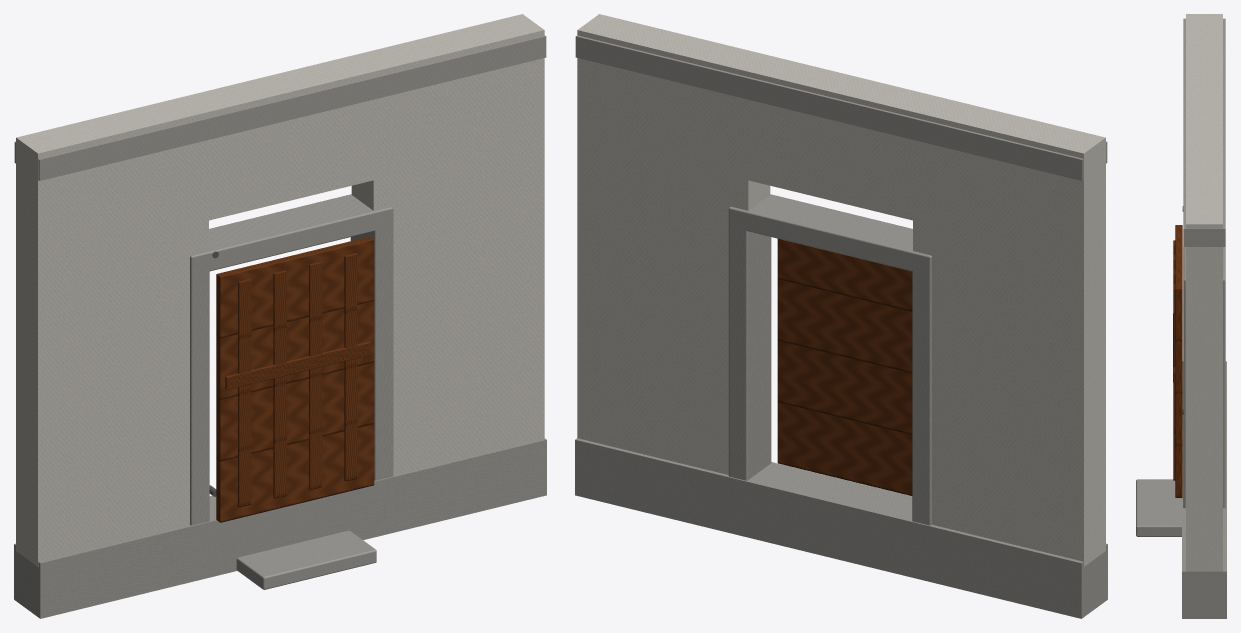
The model's file is tactical-shooter-hill-town-wall-timber-door-fcdc3a01__27513.glb.
3 views of the same model, side by side, from view 1: azimuth 30°, elevation 25°; view 2: azimuth 150°, elevation 25°; view 3: azimuth 270°, elevation 25° (orthographic). The views are drawn at different scales.
Visible parts, largest first — view 1: wall-timber-door, door/timber; view 2: wall-timber-door, door/timber; view 3: wall-timber-door, door/timber.
Part boxes in pixels (box(x1,y1,x2,y2)): wall-timber-door: box(14, 14, 546, 618); door/timber: box(216, 236, 374, 522); wall-timber-door: box(575, 14, 1107, 618); door/timber: box(777, 239, 912, 495); wall-timber-door: box(1136, 14, 1226, 618); door/timber: box(1173, 225, 1182, 497).
Size of the model in its own units: 4 by 3.5 by 0.73.
5 materials, 3 textured.
